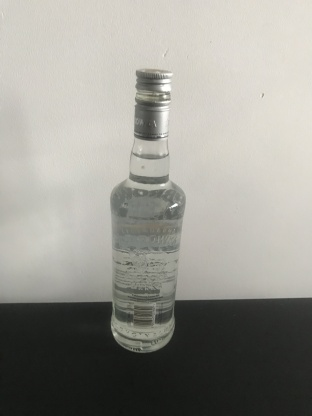nakretka: (133, 65, 174, 142)
